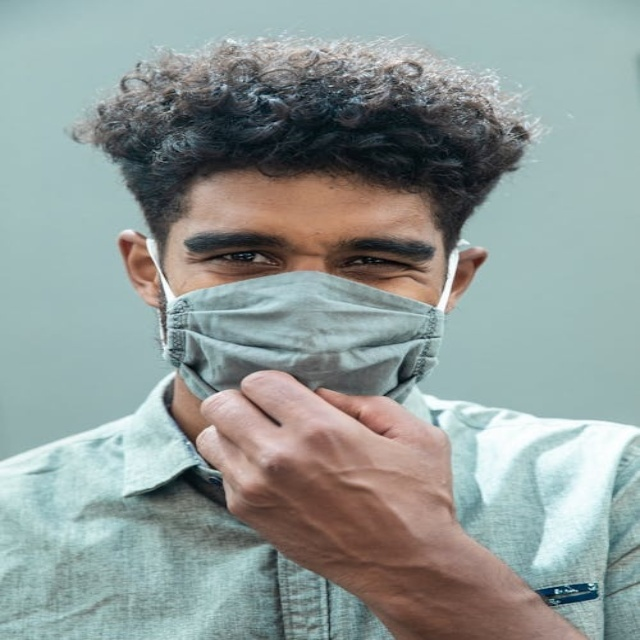Gafas: (143, 234, 465, 329)
Mascara: (148, 237, 456, 415)
Sin_gafas: (203, 249, 283, 267), (341, 254, 417, 271)
Sin_guantes: (192, 369, 460, 579)
